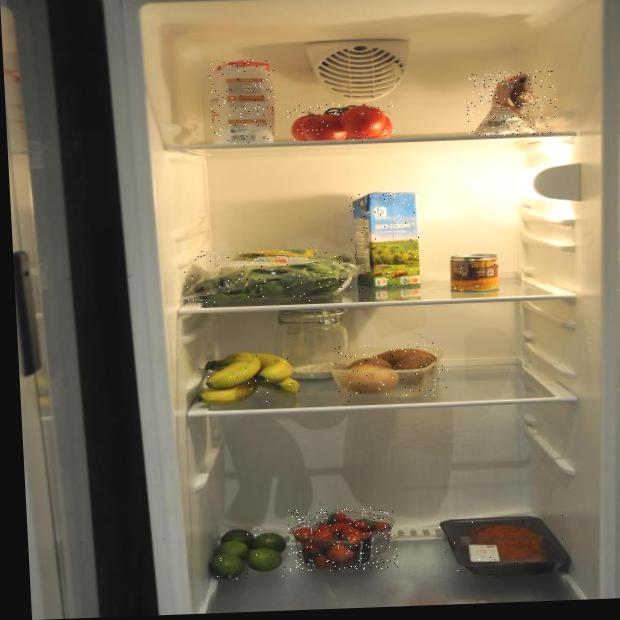banana: (195, 349, 301, 406)
beef: (438, 514, 573, 579)
corn: (450, 252, 500, 294)
flour: (270, 306, 357, 386), (465, 69, 558, 137)
lime: (209, 528, 289, 580)
milk: (349, 190, 423, 290)
potato: (334, 341, 450, 402)
spinach: (181, 244, 361, 309)
strawberries: (287, 507, 398, 572)
sugar: (208, 58, 278, 144)
tomato: (286, 100, 398, 145)
